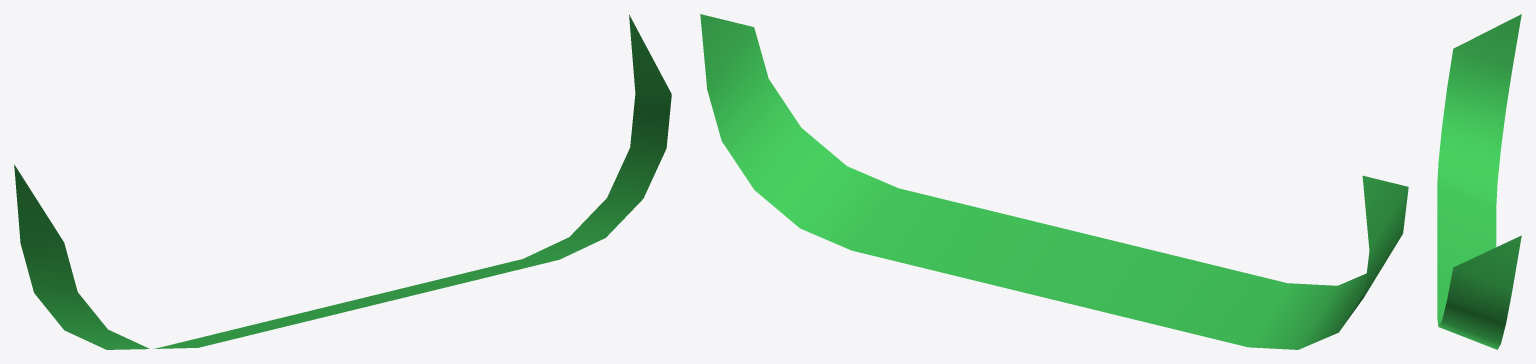
The model's file is original-19.obj.
3 views of the same model, side by side, from view 1: azimuth 30°, elevation 25°; view 2: azimuth 150°, elevation 25°; view 3: azimuth 270°, elevation 25° (orthographic). The views are drawn at different scales.
Parts seen in each view (by area): view 1: #ID13; view 2: #ID13; view 3: #ID13.
Boxes of the visible parts, <box> form: #ID13: <box>14,14,671,349</box>; #ID13: <box>700,14,1408,349</box>; #ID13: <box>1437,14,1521,349</box>.
Bounding box in the file's own units: 0.2506 × 0.0788 × 0.0405.
